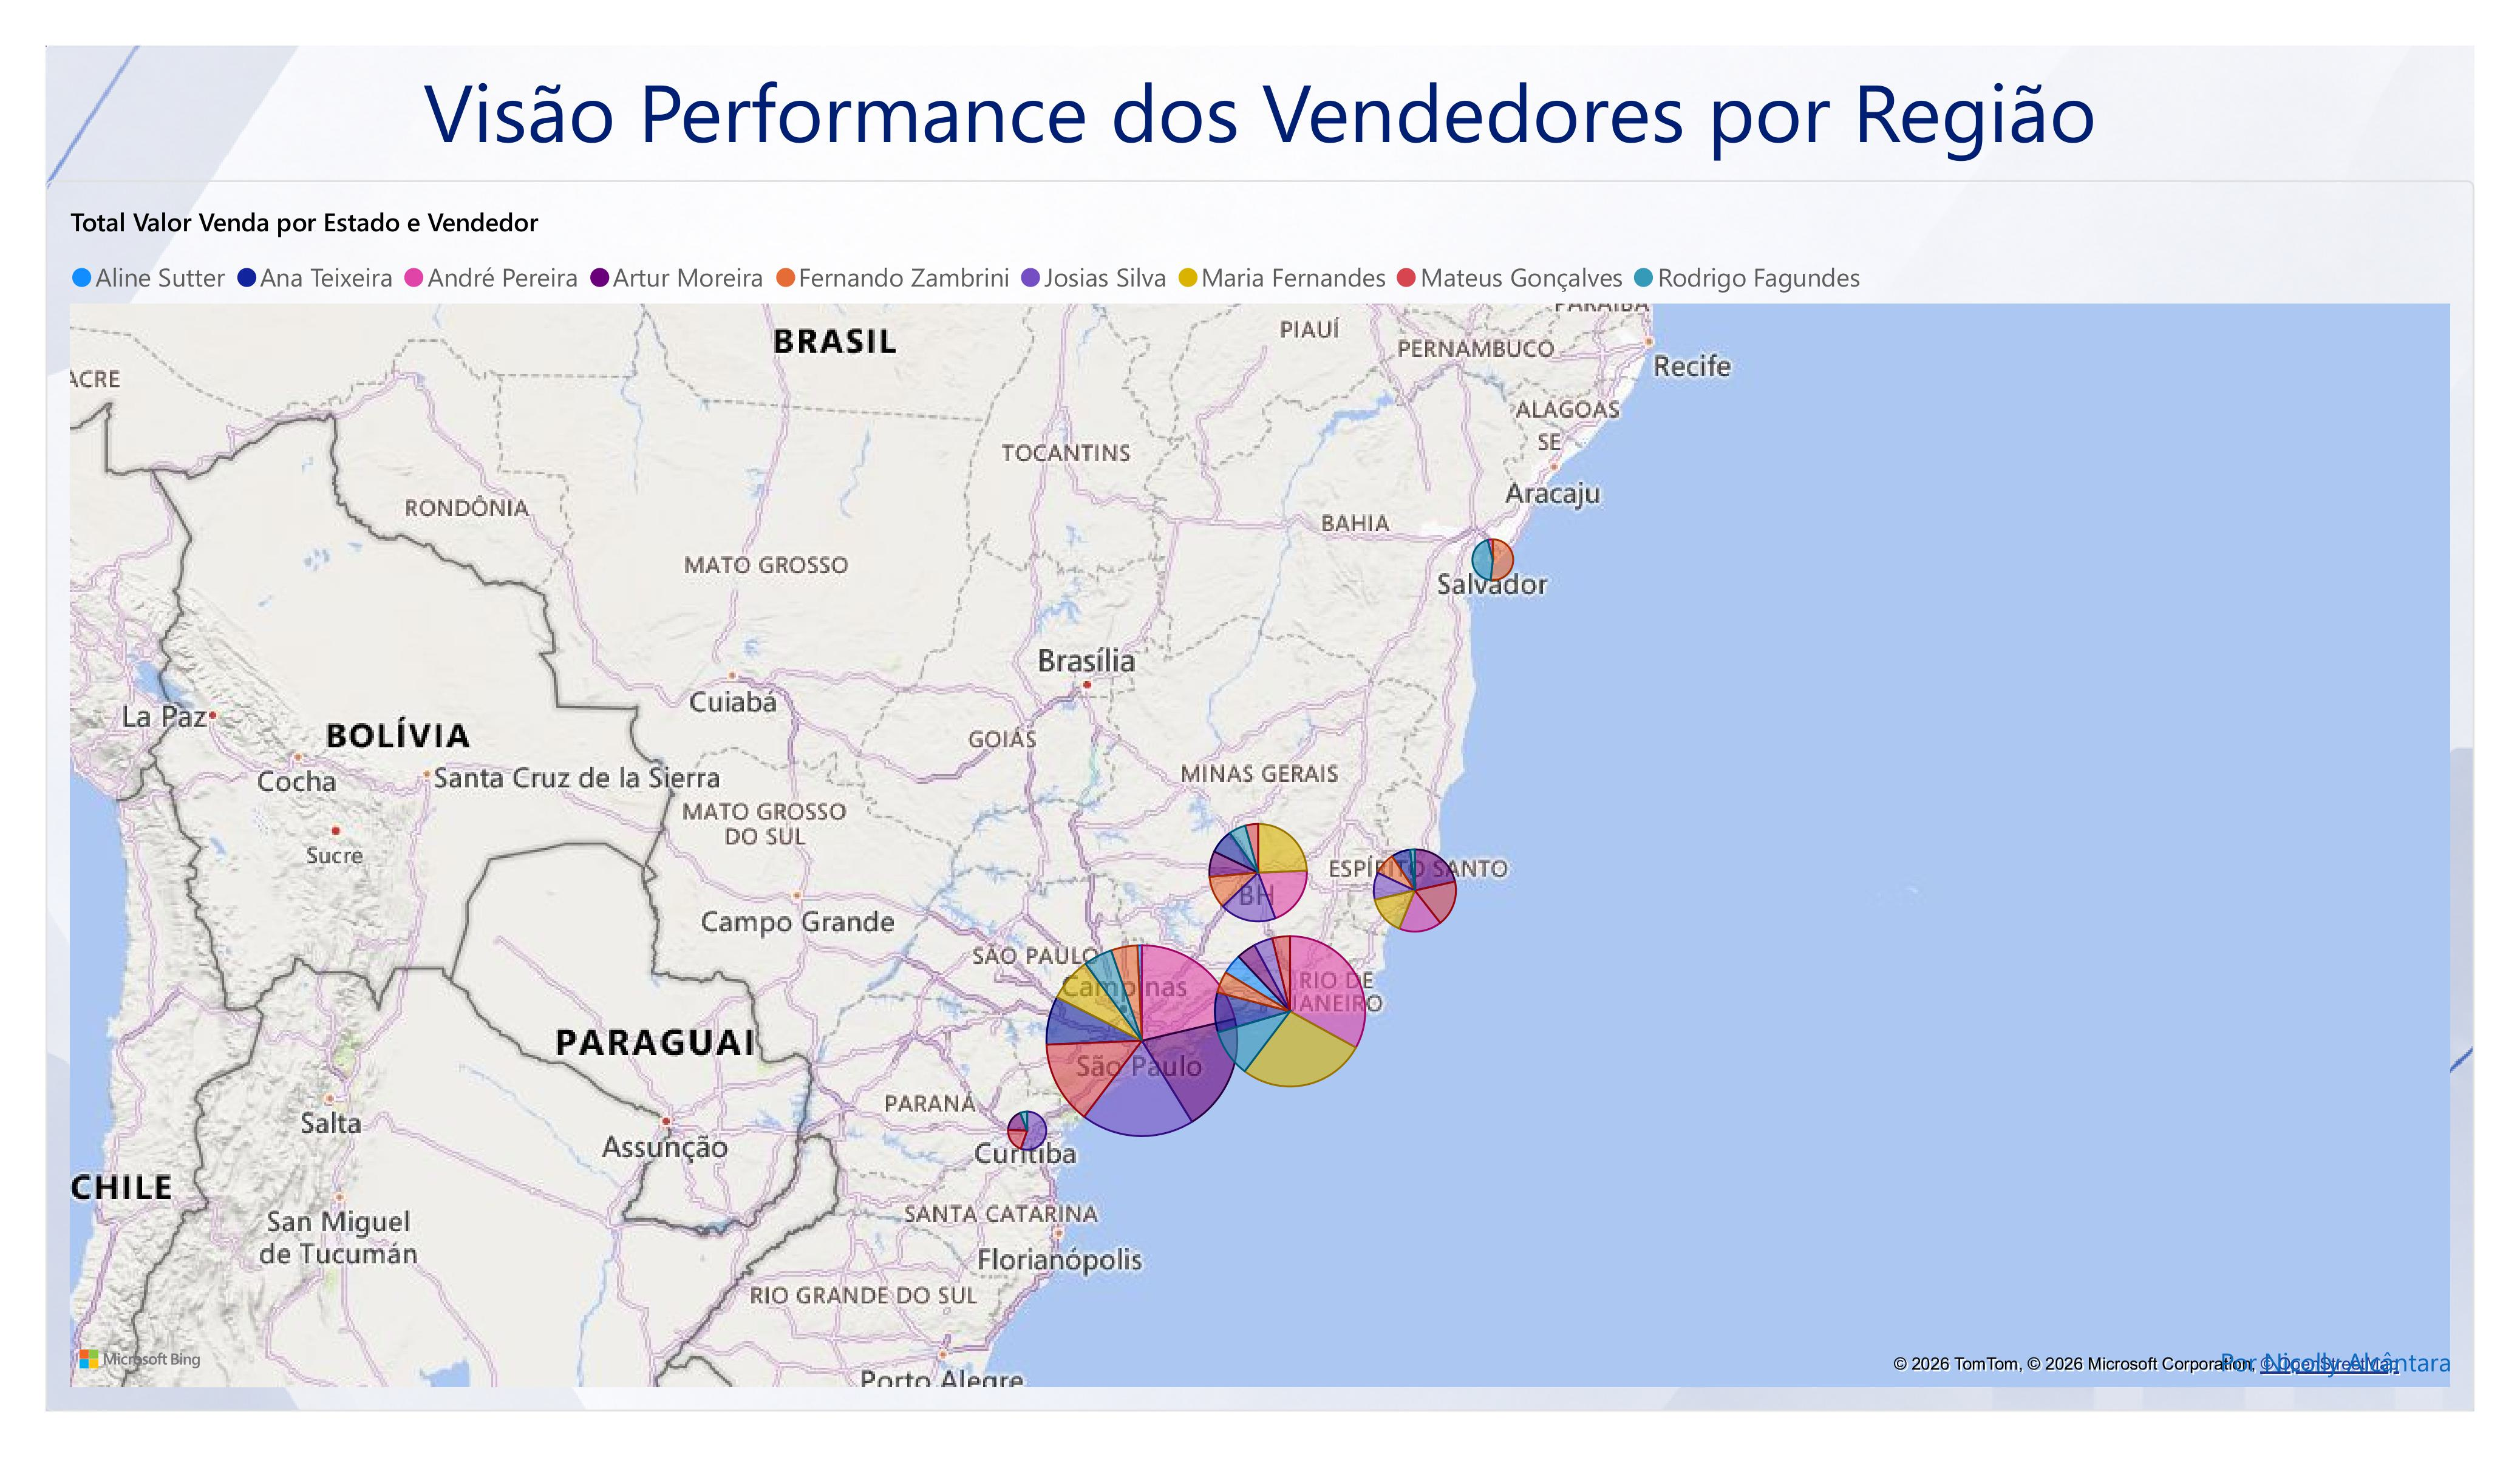

What the dashboard file says about the page in this screenshot:
{"tool":"powerbi","page":{"name":"Performance dos Vendedores por Região","canvas":[1280,720],"ordinal":4},"visuals":[{"type":"map","fields":{"Category":["Vendas.Estado"],"Series":["Vendas.Vendedor"],"Size":["Sum(Vendas.ValorVenda)"]},"box":[0,71.4,1280,648.6],"z":0},{"type":"textbox","box":[0,0,1280,71.4],"z":1000},{"type":"textbox","box":[1141.4,680,138.6,40],"z":1001}]}

Visuals, with their boxes on the page's 1280x720 design canvas (x1, y1, x2, y2). These are canvas units, not pixel positions in the 2520x1457 screenshot, which may show the page scaled, cropped or inside an application window:
map - Vendas.Estado x Vendas.Vendedor: 0,71,1280,720
textbox: 0,0,1280,71
textbox: 1141,680,1280,720
